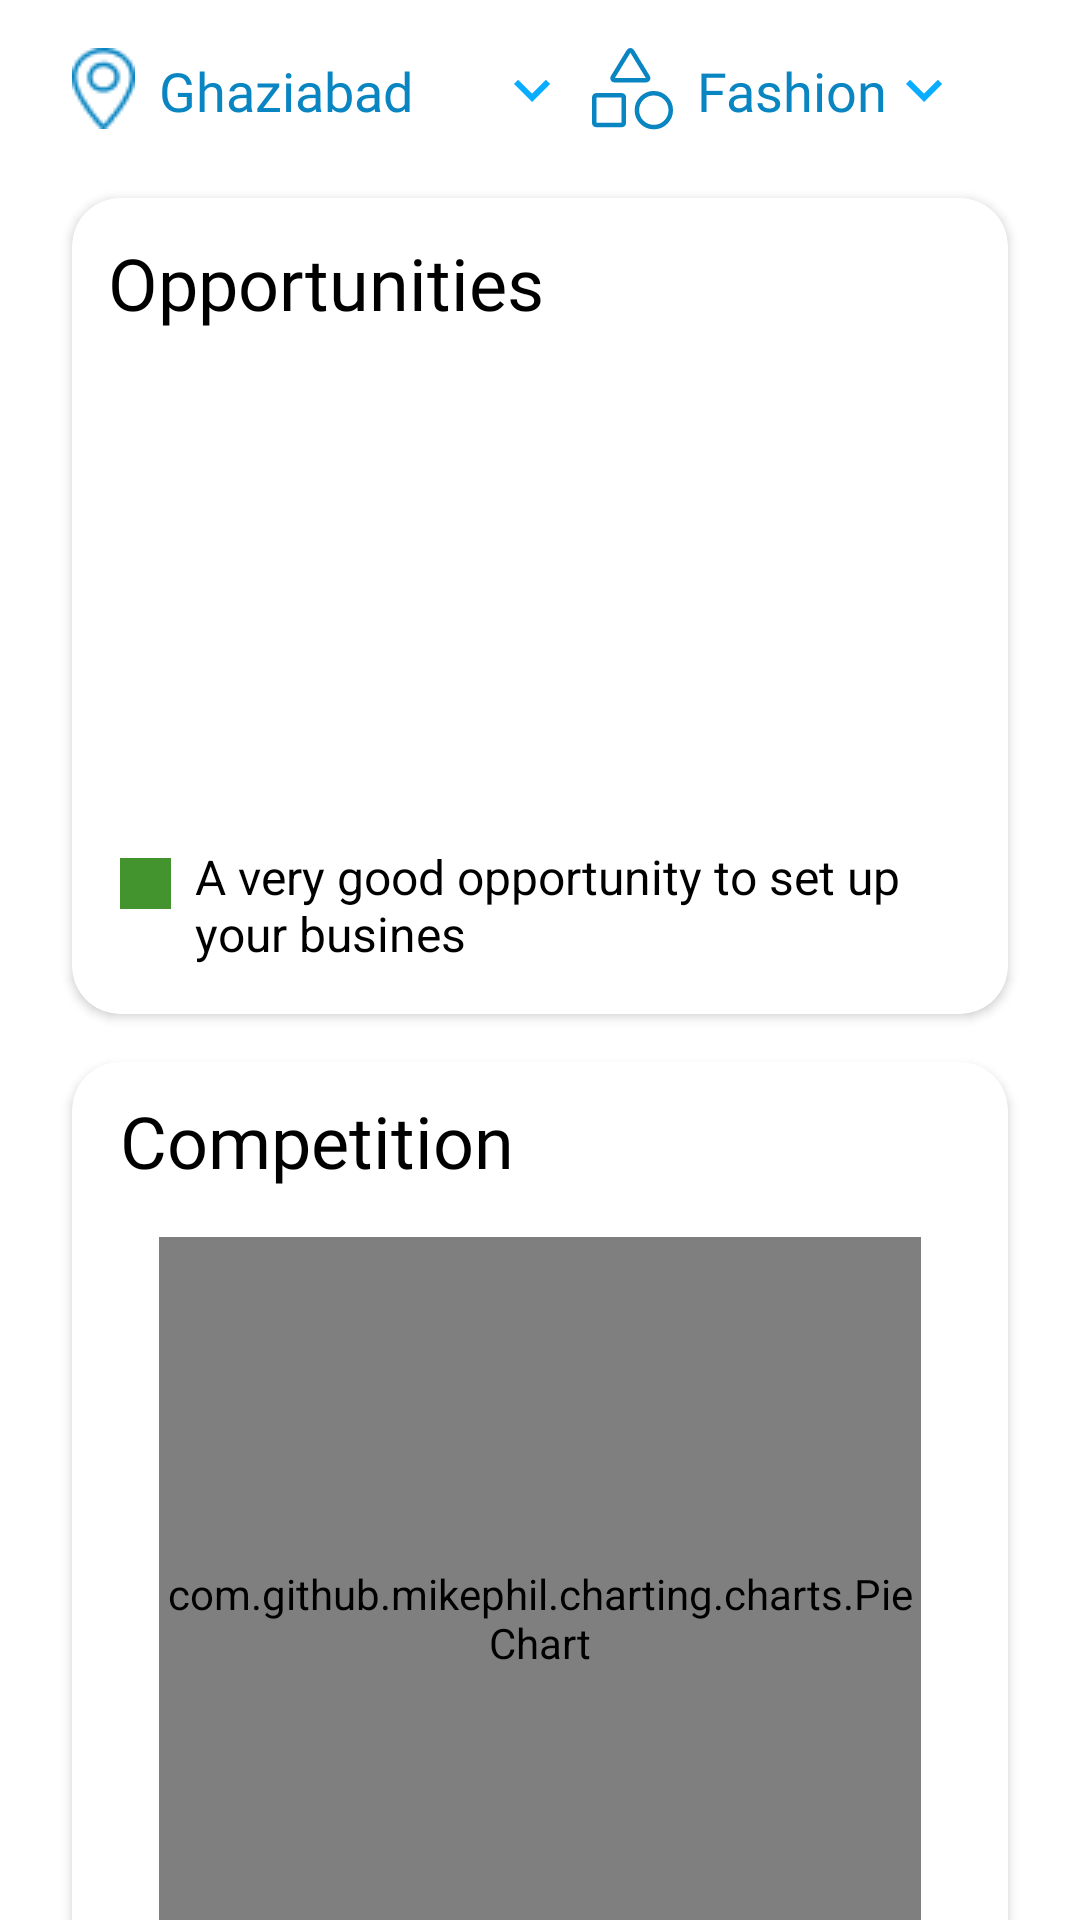

Icon click points for this 1080×1920 phone screenshot, format point (x, y):
locationmarker: point (103, 88)
